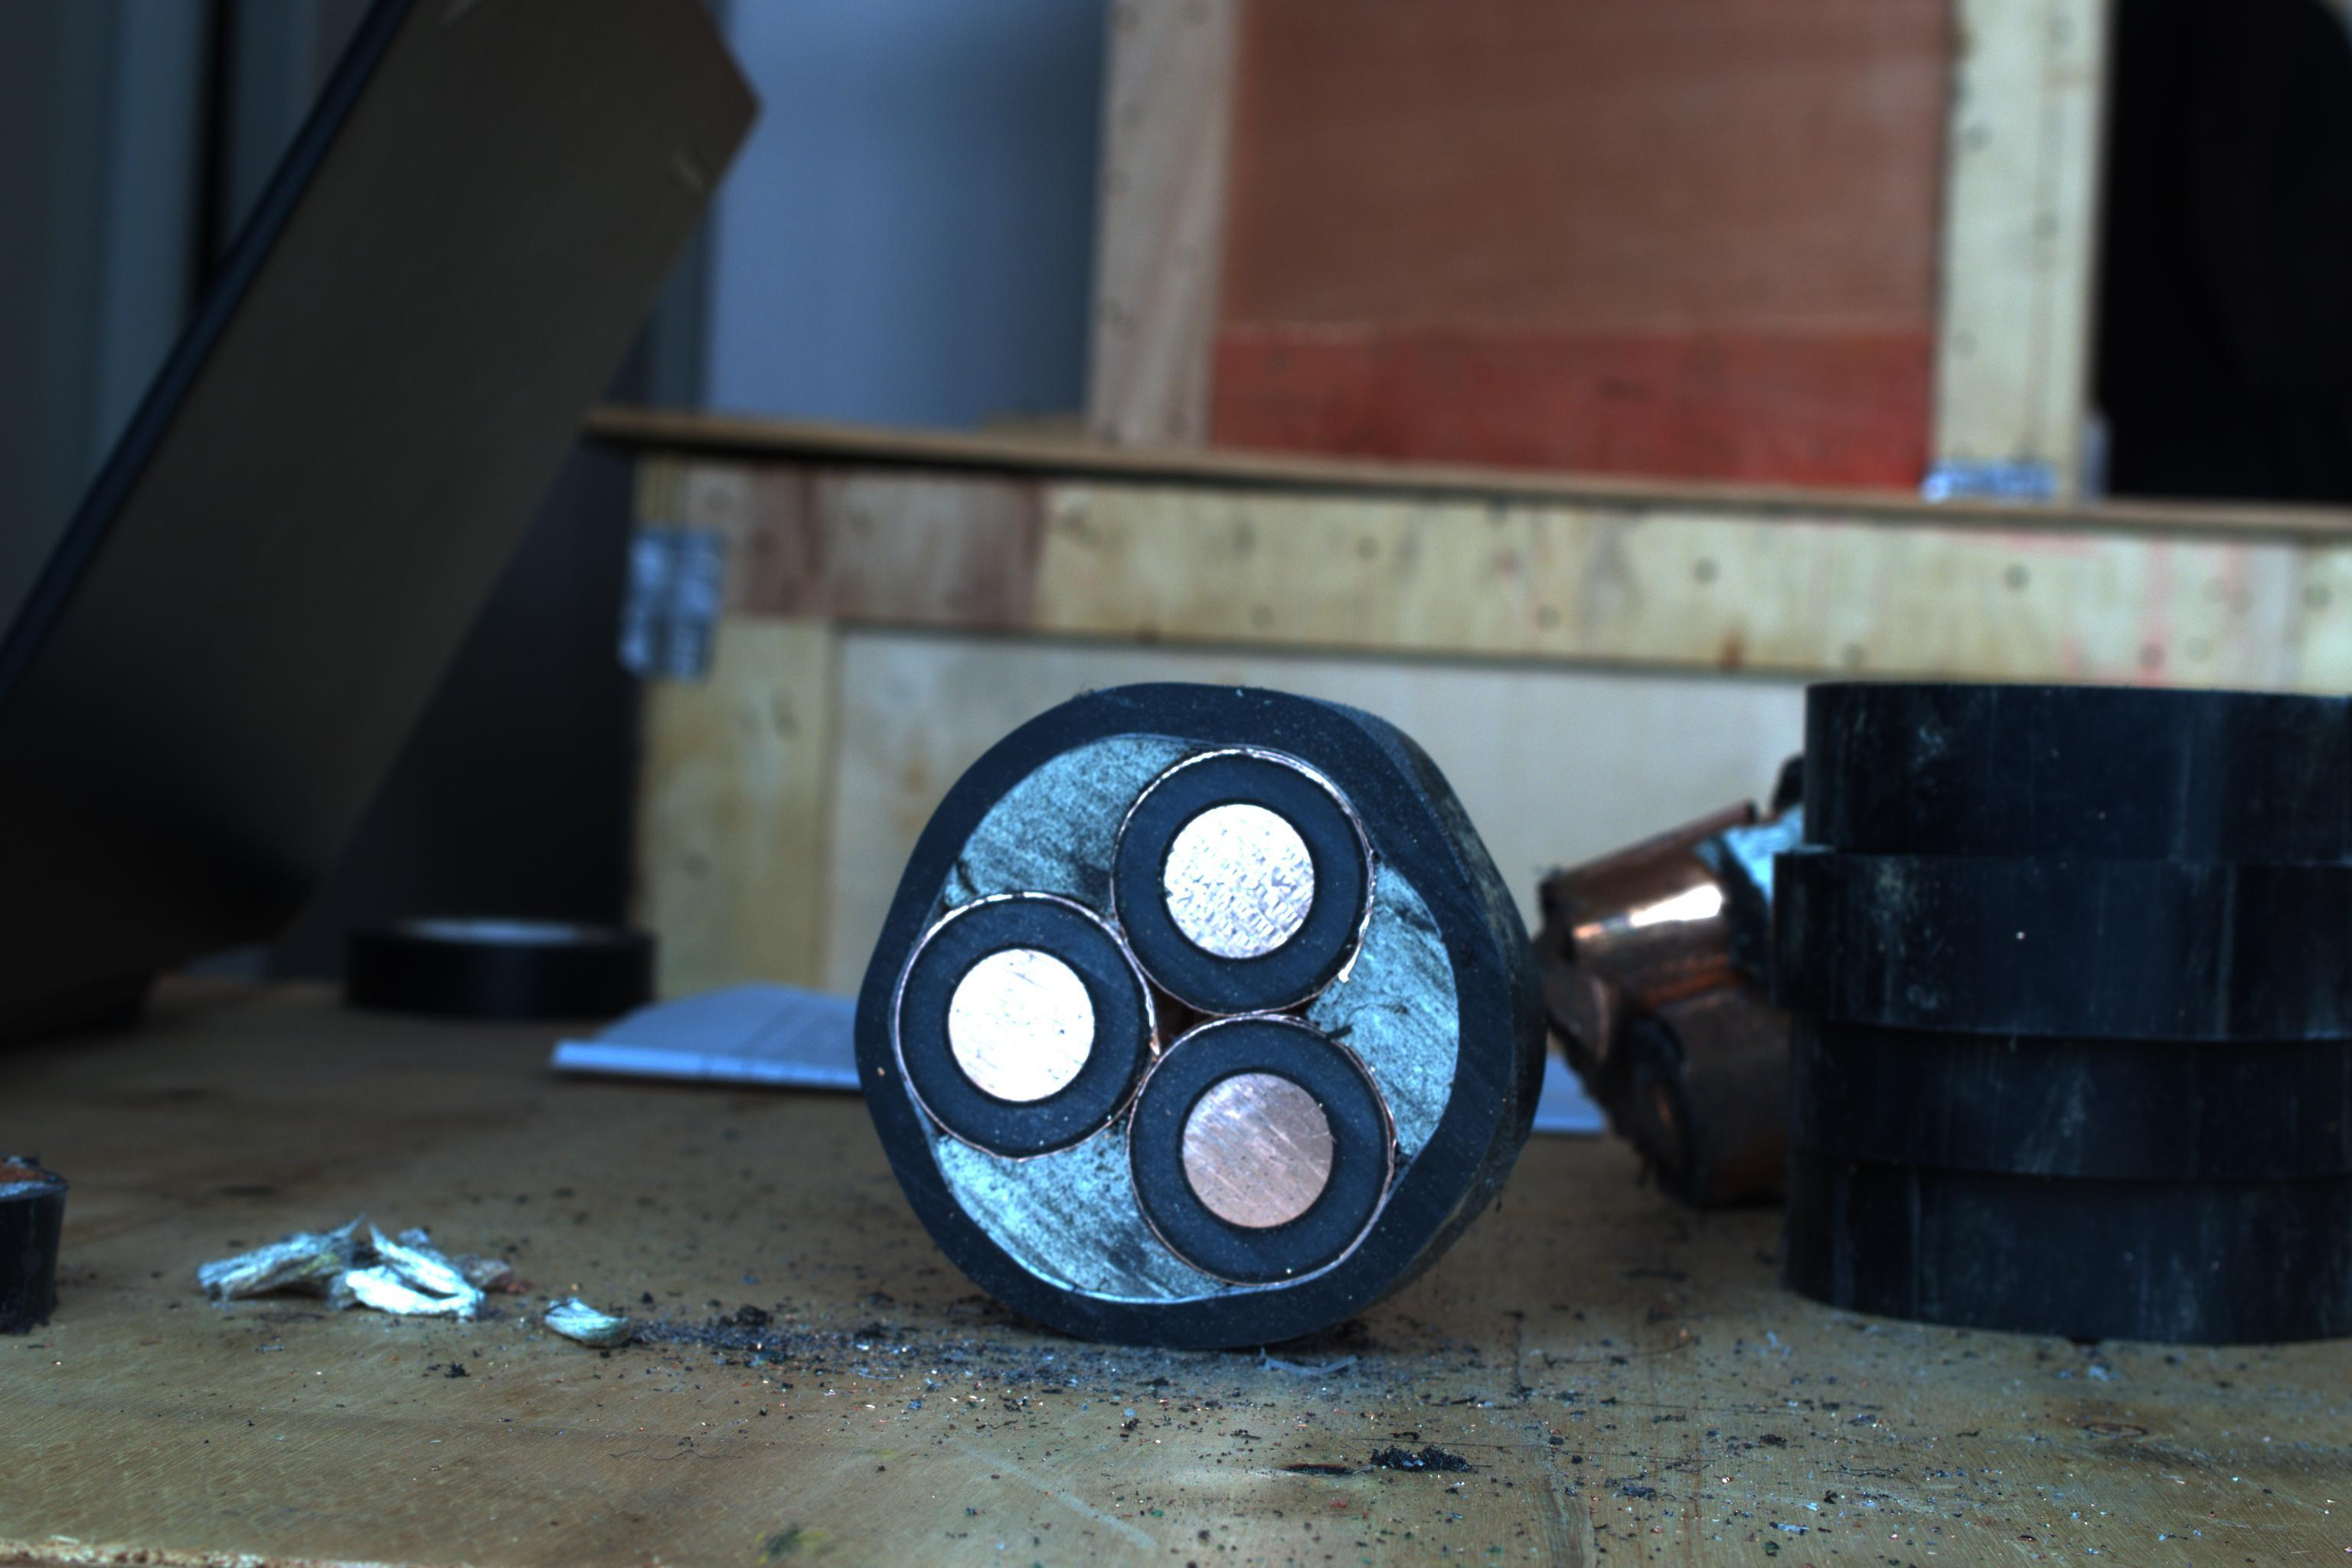ZA_YJV_8.7_10kV_3x240: (850, 688, 1486, 1332)
